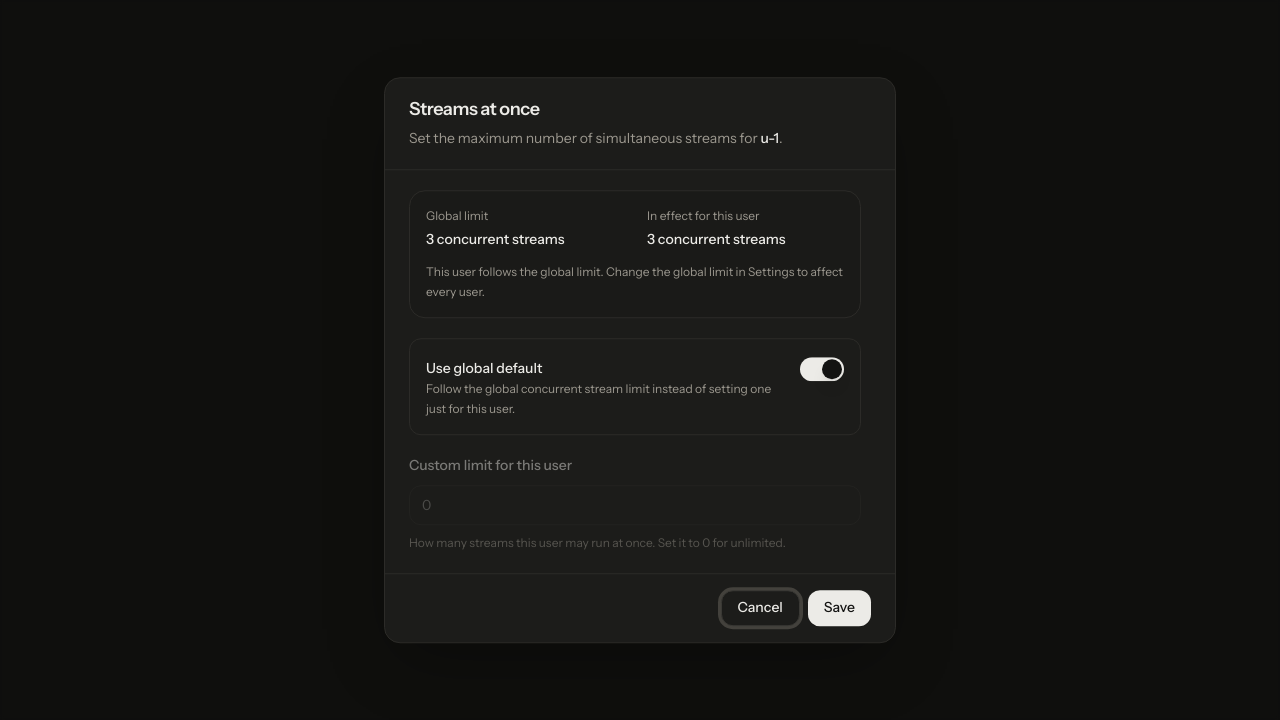
ConcurrentStreamModal › showing which limit is in effect › follows the typed value as it changes
Check: the text "Use global default" is shown, box [426,360,542,378]
Click the switch.
click(822, 370)  # box [800,358,844,382]
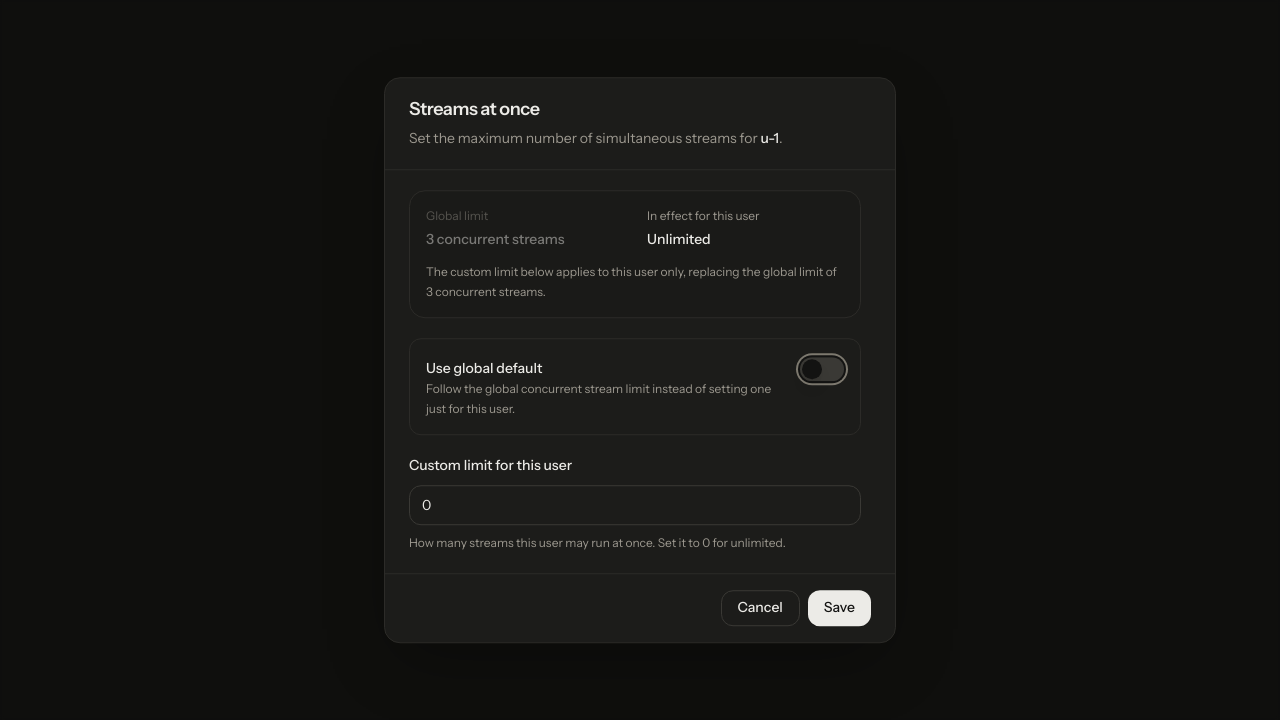
Clear the number field labelled "Custom limit for this user" at (635, 505), box [409,485,861,525]
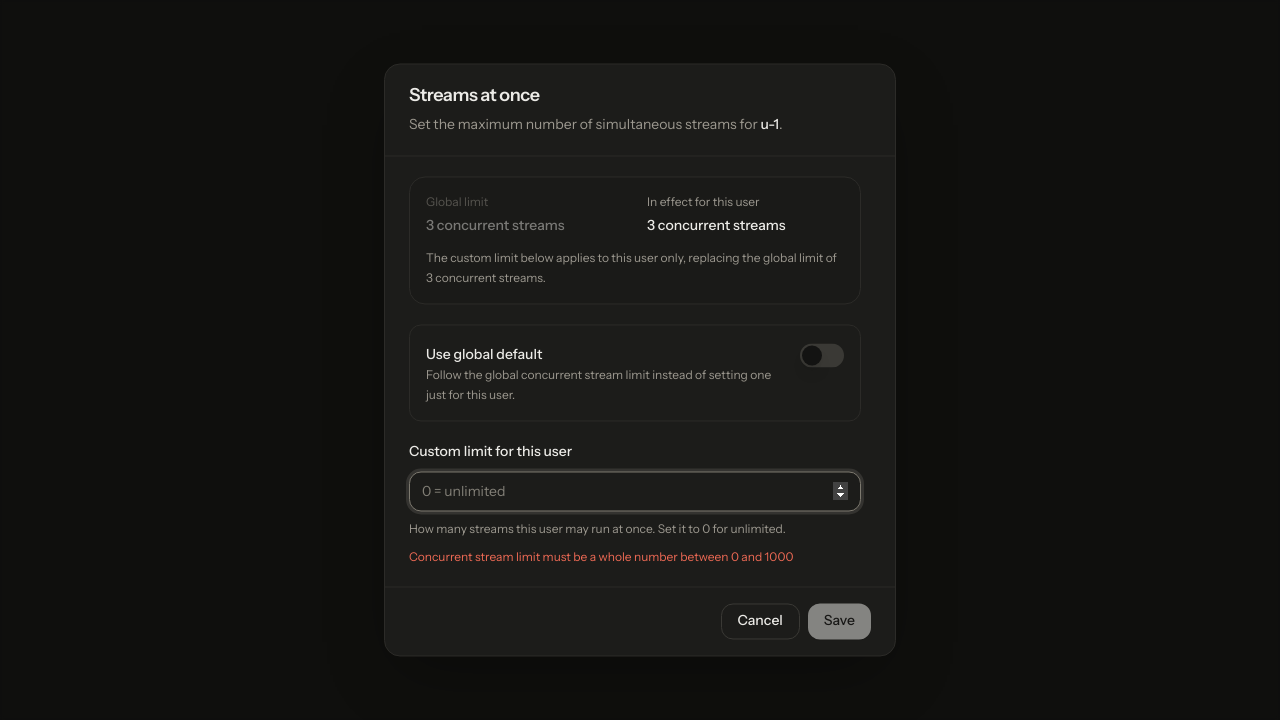
Type "1" into the number field labelled "Custom limit for this user".
click(635, 492); type("1")  # box [409,472,861,512]
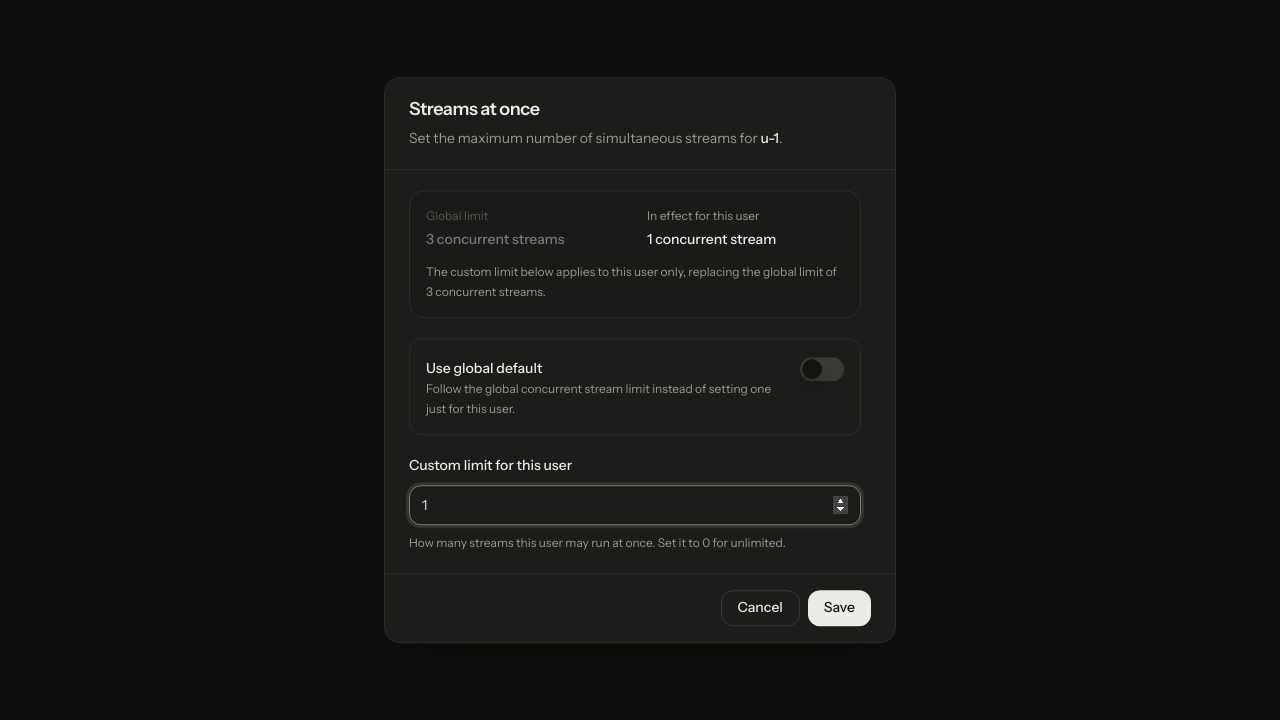
Check: the text "1 concurrent stream" is shown, box [647,230,776,248]
